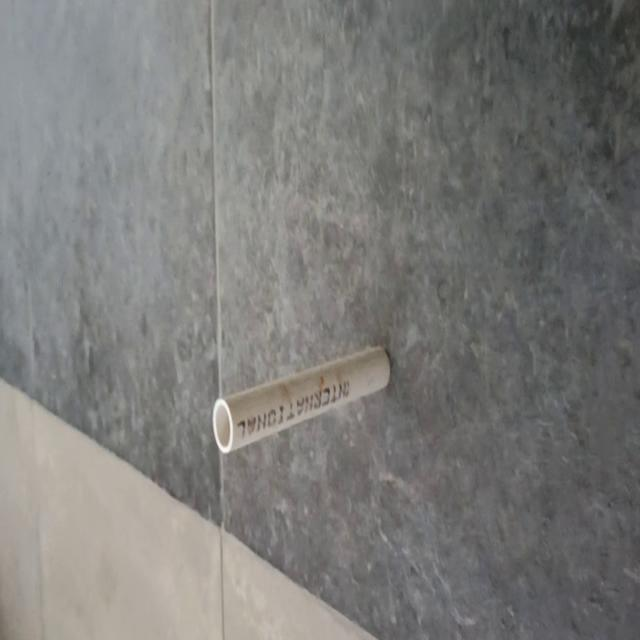Cube: (211, 342, 391, 455)
